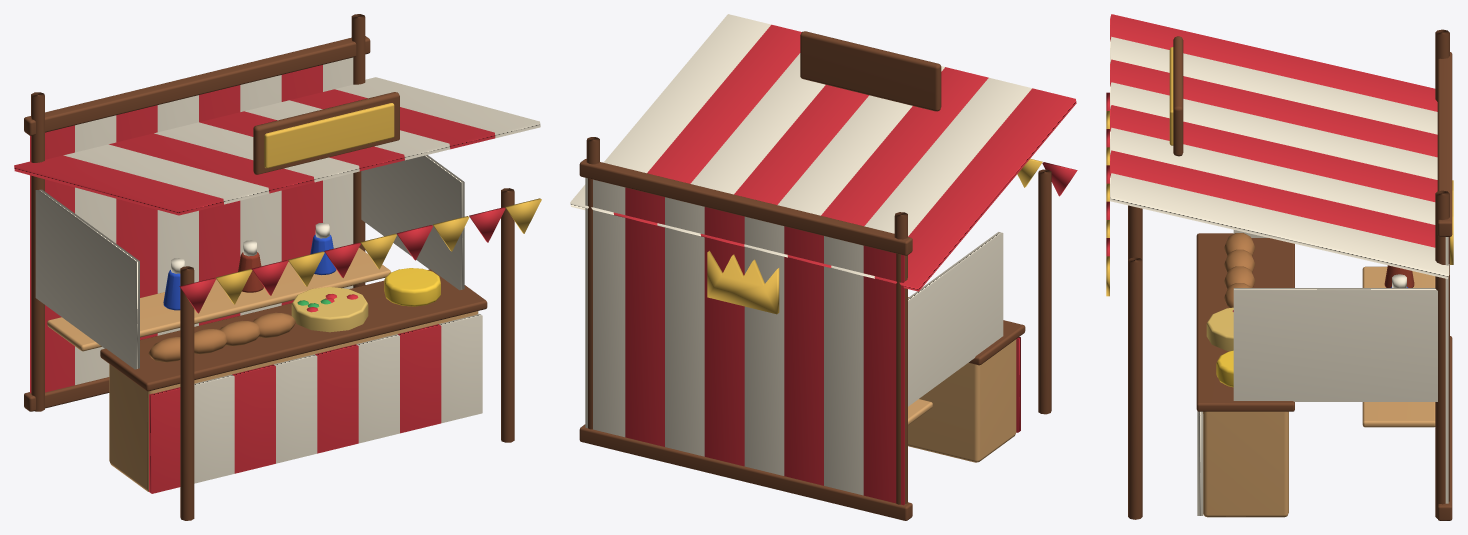
The model's file is faire_stall.glb.
3 views of the same model, side by side, from view 1: azimuth 30°, elevation 25°; view 2: azimuth 150°, elevation 25°; view 3: azimuth 270°, elevation 25° (orthographic). The views are drawn at different scales.
Parts seen in each view (by area): view 1: Stall; view 2: Stall; view 3: Stall.
Boxes of the visible parts, x1=… form: Stall: x1=14, y1=14, x2=541, y2=520; Stall: x1=570, y1=14, x2=1077, y2=520; Stall: x1=1106, y1=14, x2=1453, y2=520.
Bounding box in the file's own units: 3.5 × 3.27 × 2.83.
